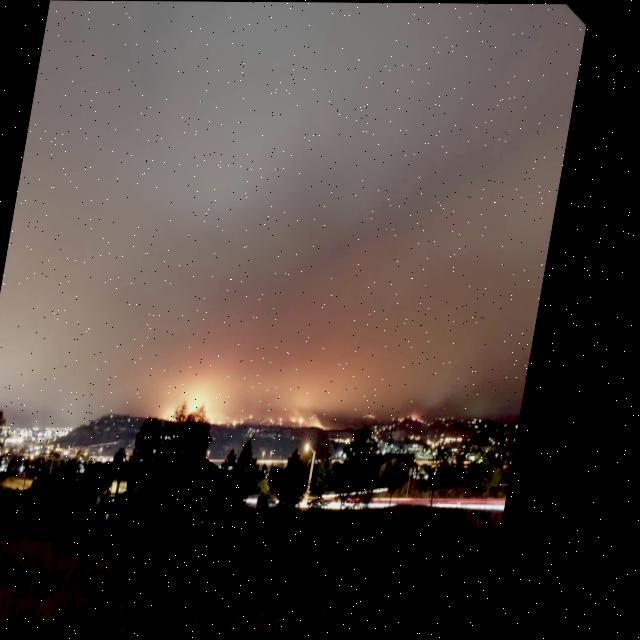Fire: (192, 384, 232, 412), (224, 409, 269, 426), (174, 405, 193, 420), (282, 413, 300, 425), (306, 413, 320, 425), (426, 412, 440, 422), (378, 412, 390, 418)
